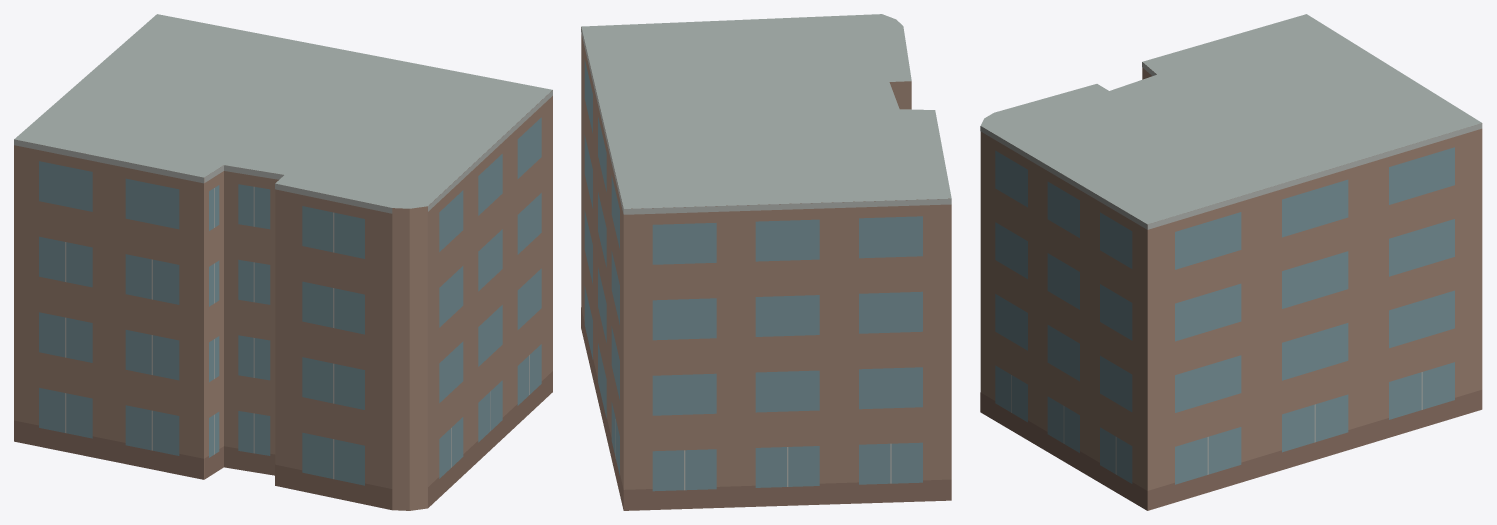
File: survey-upis-32981936.glb
3 views of the same model, side by side, from view 1: azimuth 30°, elevation 25°; view 2: azimuth 150°, elevation 25°; view 3: azimuth 270°, elevation 25° (orthographic). The views are drawn at different scales.
Parts seen in each view (by area): view 1: survey-upis-32981936.tmp; view 2: survey-upis-32981936.tmp; view 3: survey-upis-32981936.tmp.
Boxes of the visible parts, x1,y1,x2,y2 form: survey-upis-32981936.tmp: (14,14,552,510); survey-upis-32981936.tmp: (581,14,951,510); survey-upis-32981936.tmp: (980,14,1482,510).
Size of the model in its own units: 20.01 by 12.7 by 20.17.
